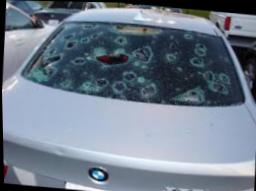Windshield: (23, 19, 243, 102)
